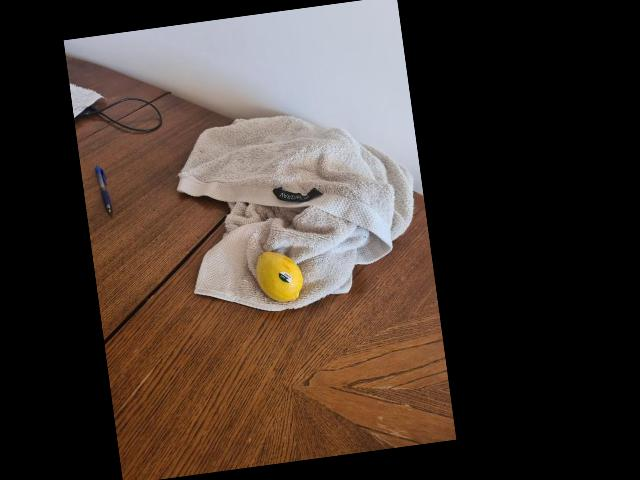lemon: (253, 248, 306, 308)
